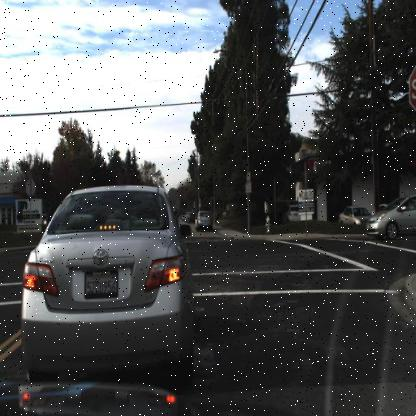car: (18, 182, 192, 396), (368, 193, 415, 238), (338, 203, 372, 229), (281, 200, 305, 227), (192, 204, 214, 233)
